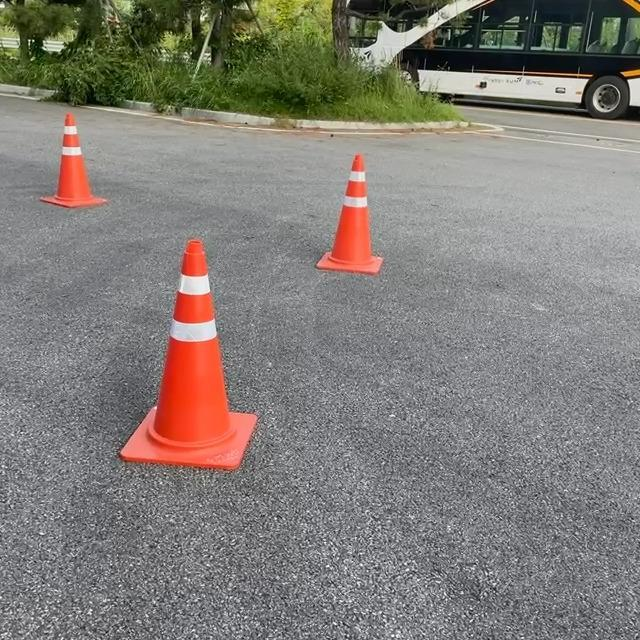fallen_object: (99, 215, 266, 465), (257, 119, 413, 295), (27, 95, 137, 227)
